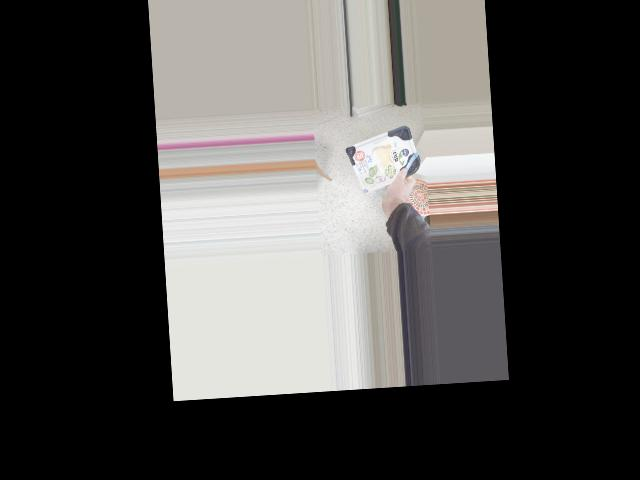cheese: (344, 124, 422, 192)
